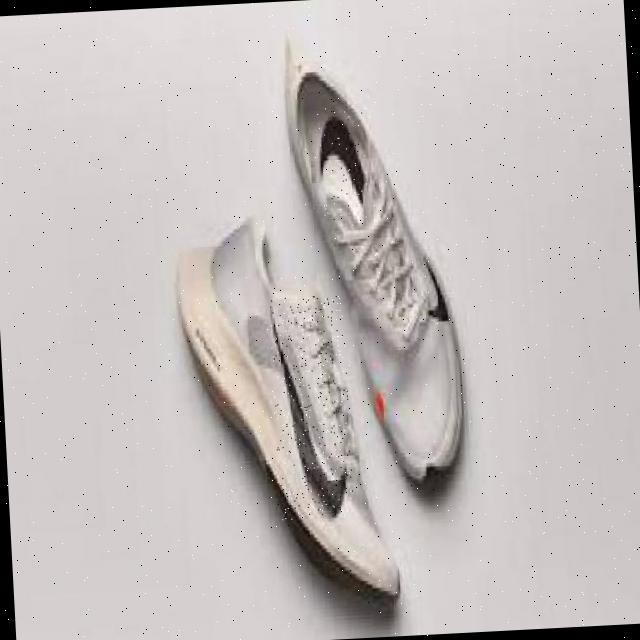Nike: (269, 295, 354, 521), (318, 104, 369, 222)
